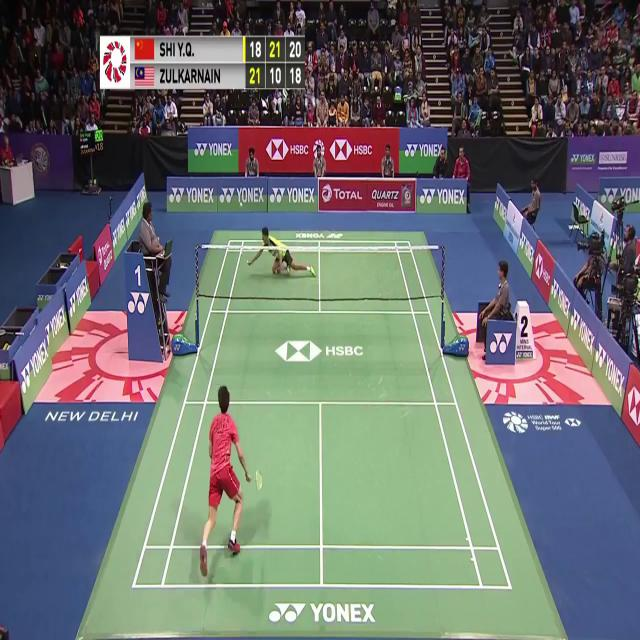Shuttlecock: (238, 197, 244, 208)
